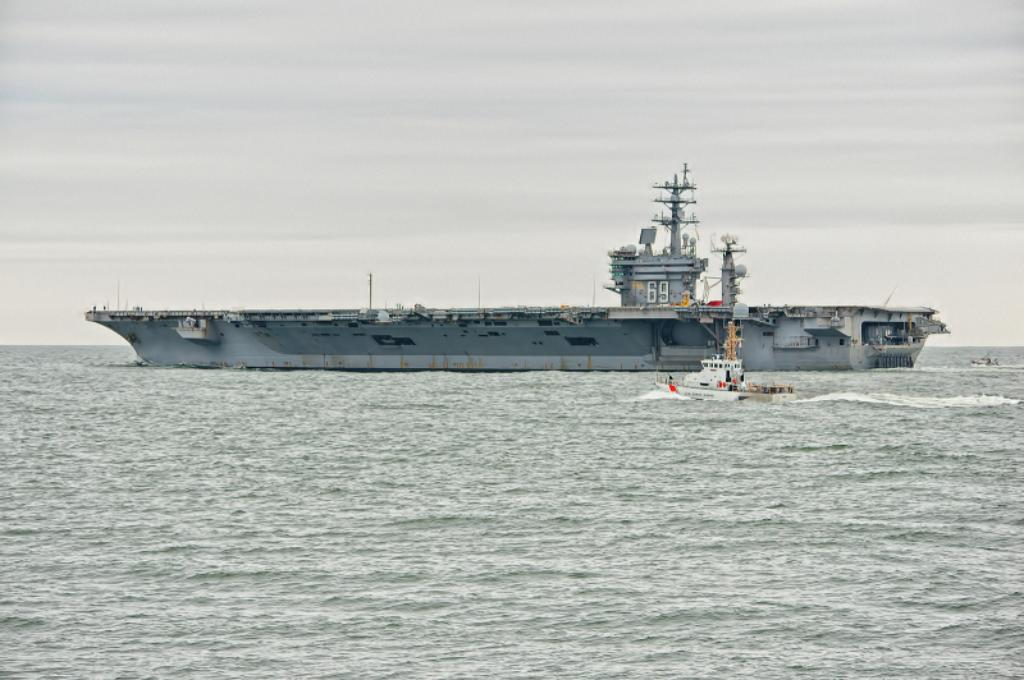PassengerShip: (654, 344, 794, 407)
